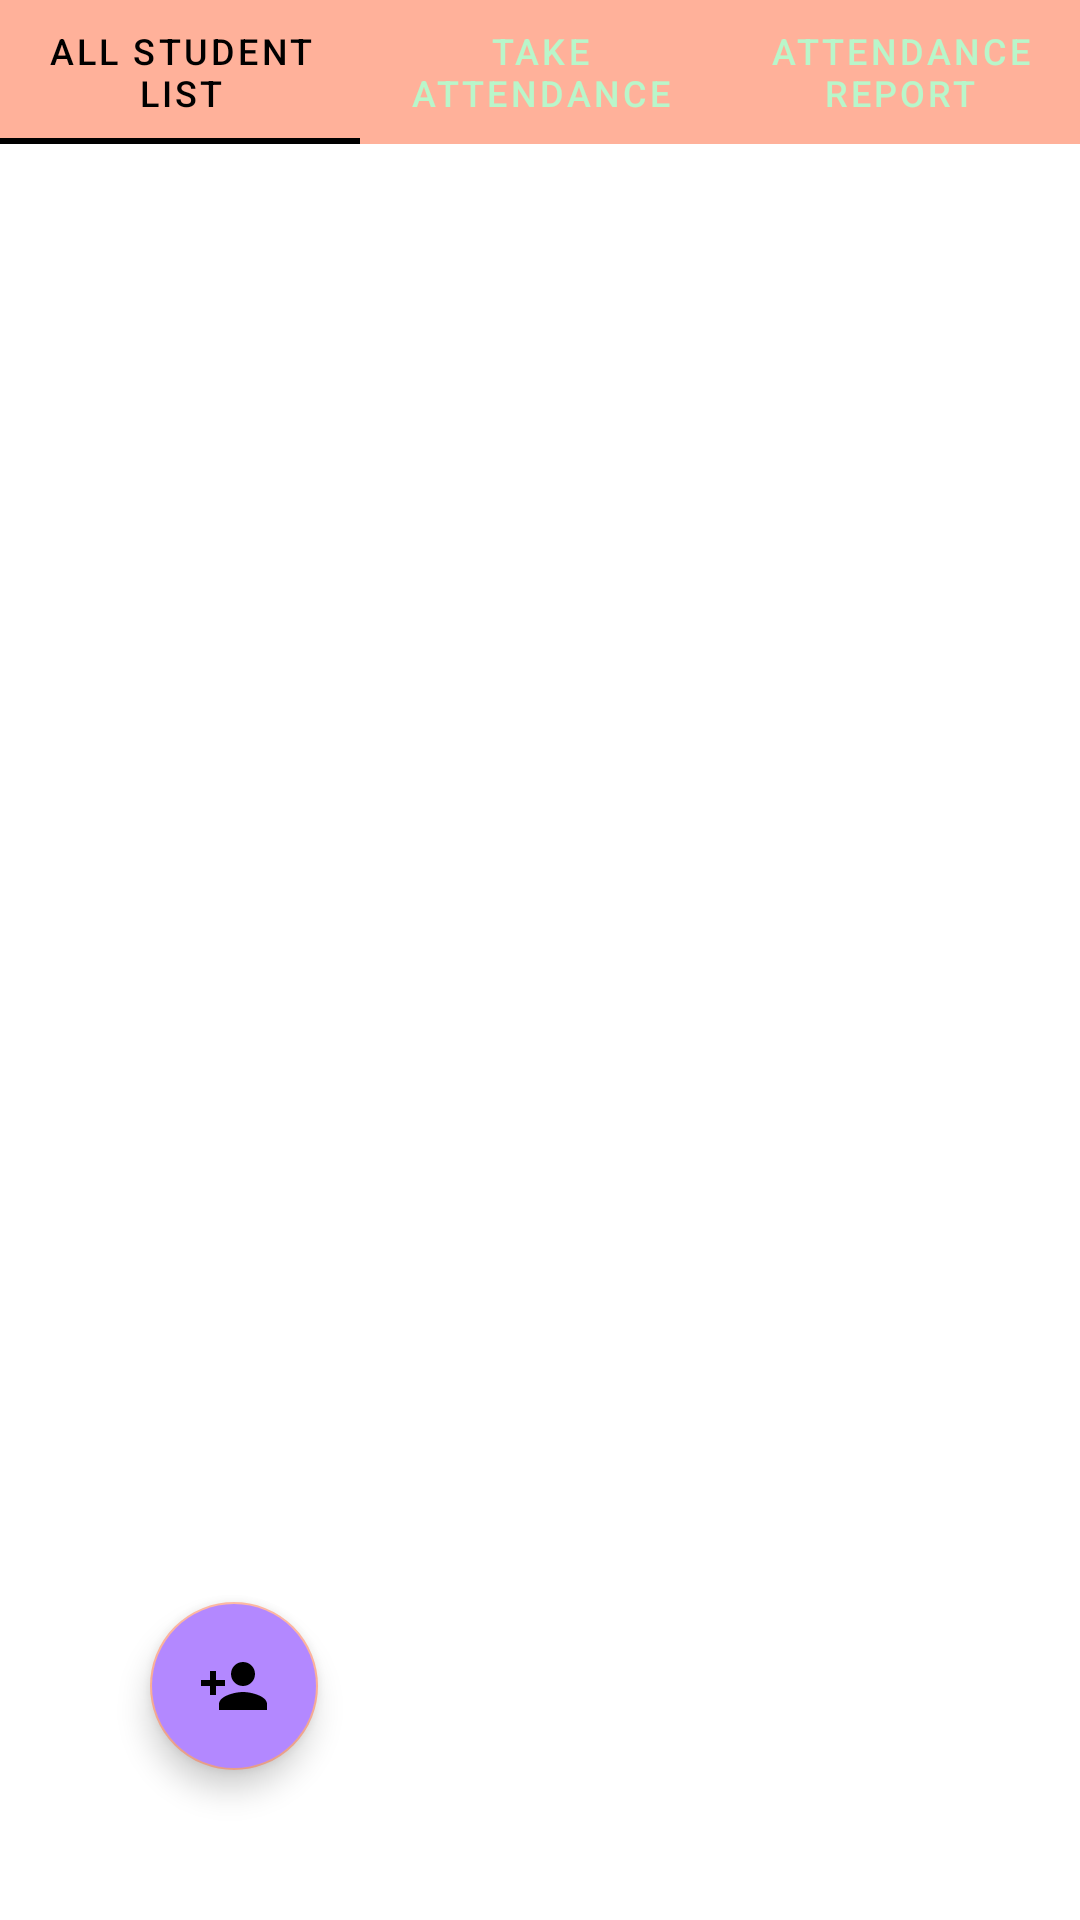

Point at icon controls on the screen. Image size 1080 × 1920, points as (x,y).
person add: (234,1686)
